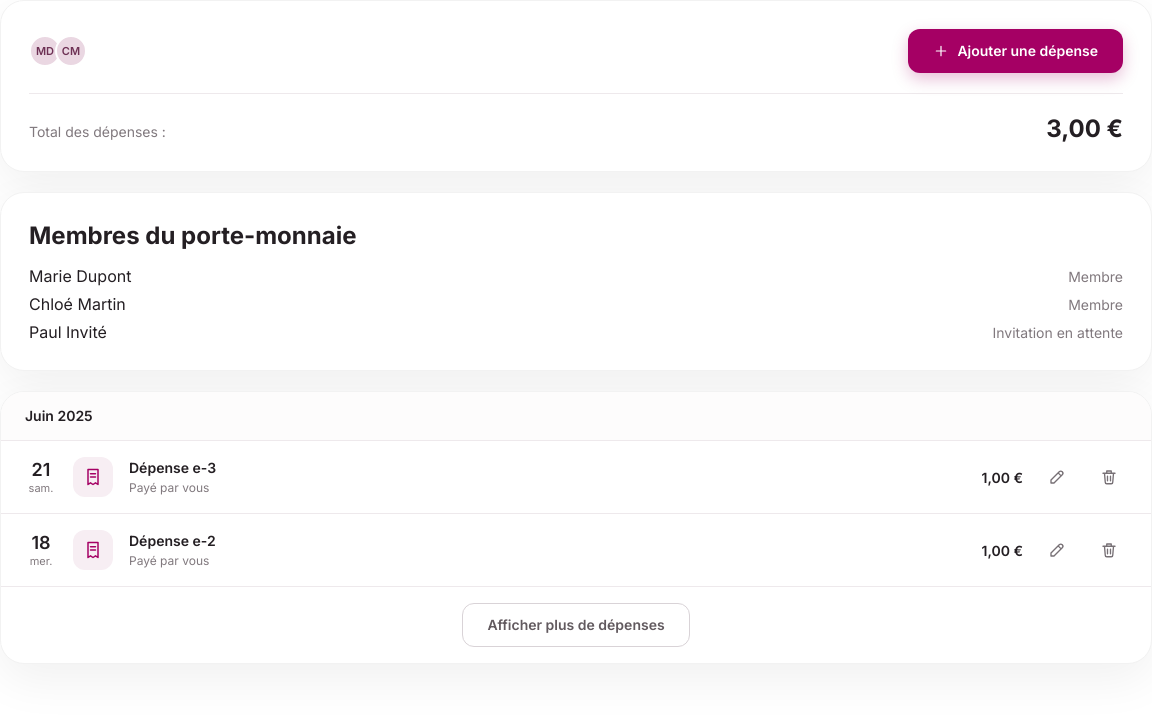
Test: détail d’un porte-monnaie › charge la page suivante avec le curseur, sans doublon
The image size is (1152, 720).
Click the button "Afficher plus de dépenses". click: (576, 625)
box: 462,603 -> 690,647
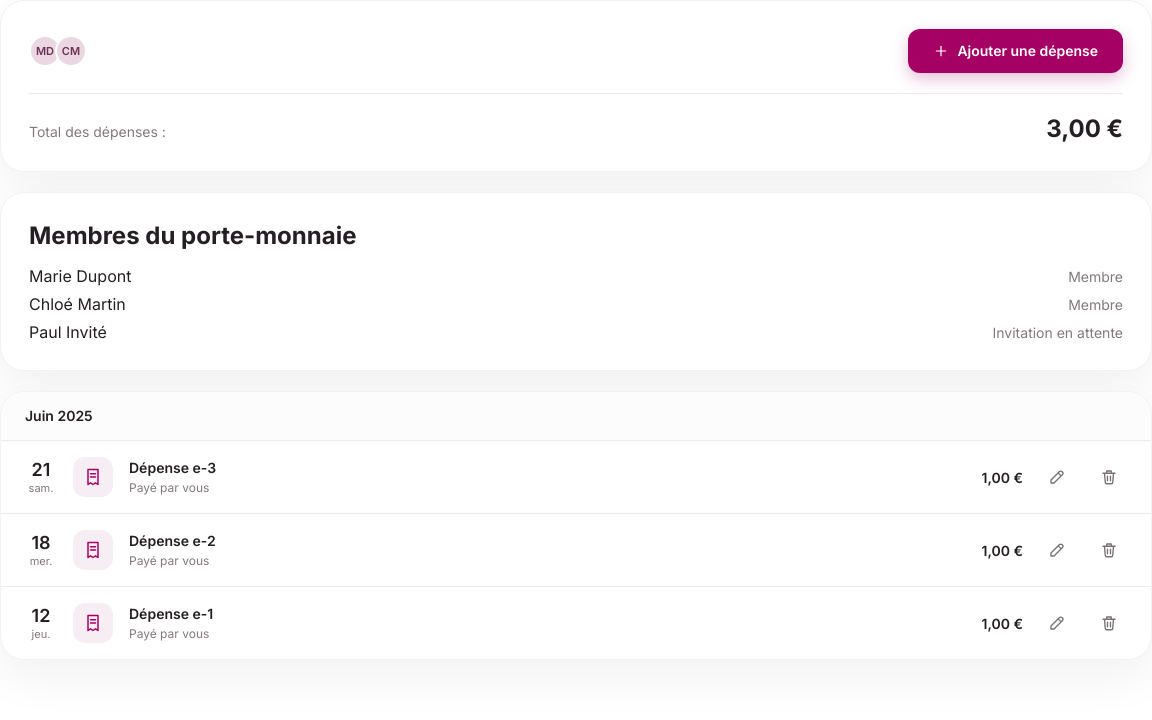
Check: the text "Dépense e-1" is shown, box 129,605 -> 213,622
Check: the button "Afficher plus de dépenses" is gone
